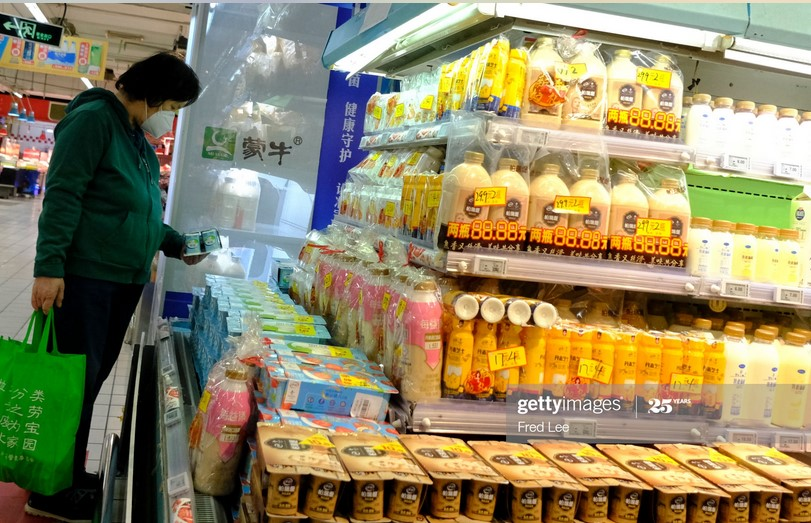face_with_mask: (118, 56, 198, 140)
